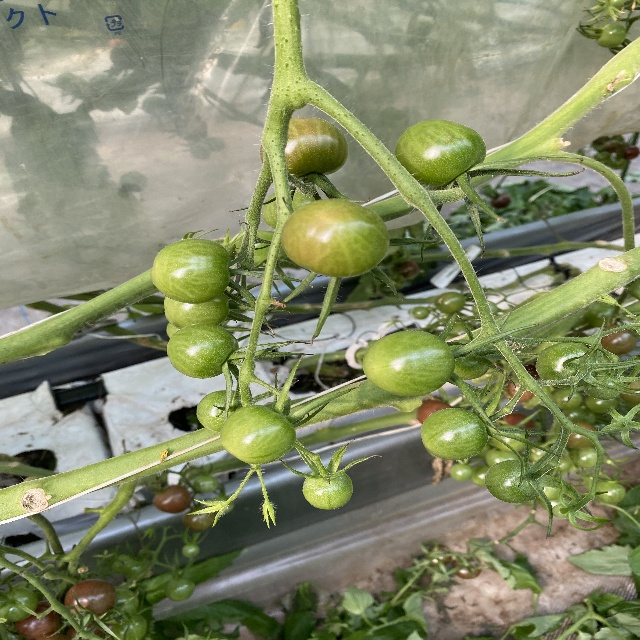l_fully_ripened: (63, 579, 117, 622), (15, 603, 63, 638)
l_green: (278, 198, 391, 278), (362, 330, 457, 398), (395, 118, 488, 187), (259, 117, 348, 180), (152, 238, 230, 304), (219, 404, 297, 465), (167, 324, 240, 378), (421, 407, 489, 461), (534, 342, 599, 388), (485, 458, 545, 503), (197, 389, 258, 432), (263, 186, 317, 230), (164, 293, 230, 329), (303, 468, 354, 509), (234, 231, 286, 269), (446, 338, 491, 381), (0, 587, 39, 623), (582, 371, 625, 400), (551, 505, 575, 518)
